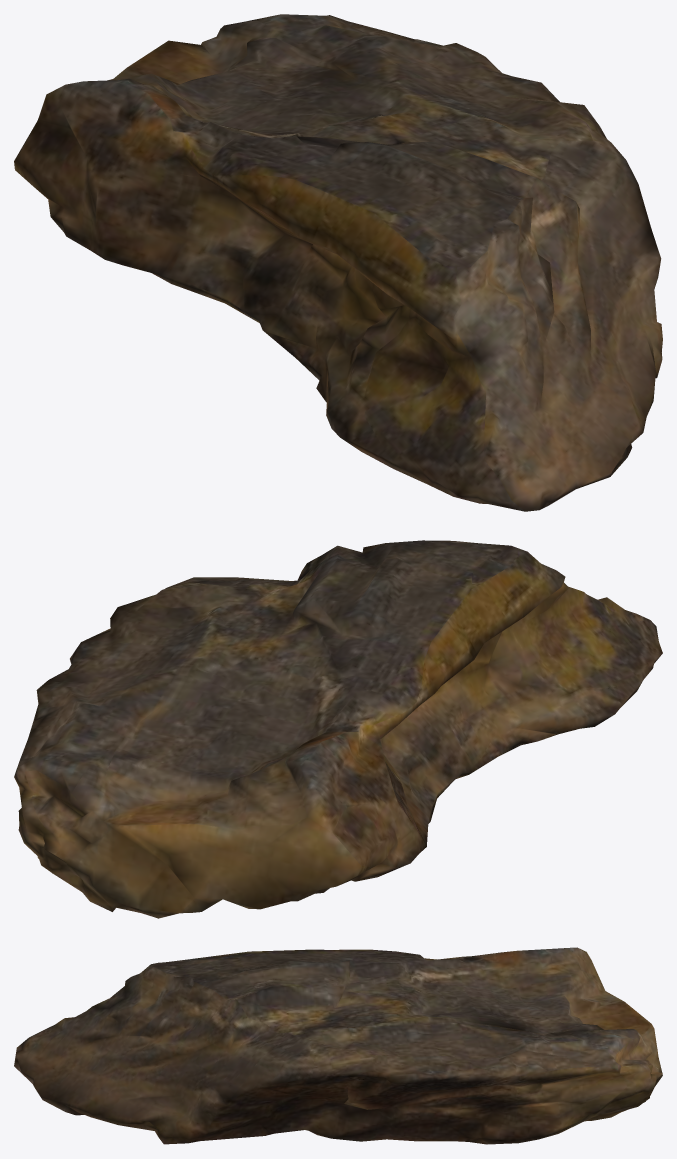
The model's file is rock_09.gltf.
3 views of the same model, one above another, from view 1: azimuth 30°, elevation 25°; view 2: azimuth 150°, elevation 25°; view 3: azimuth 270°, elevation 25° (orthographic). The views are drawn at different scales.
Visible parts, largest first — view 1: rock_09_LOD0; view 2: rock_09_LOD0; view 3: rock_09_LOD0.
Boxes of the visible parts, left/top/right/bottom form: rock_09_LOD0: left=14, top=14, right=662, bottom=511; rock_09_LOD0: left=14, top=540, right=662, bottom=918; rock_09_LOD0: left=14, top=947, right=662, bottom=1144.
Size of the model in its own units: 0.0739 by 0.0326 by 0.1446.
Materials: 1 (1 with a texture image).
